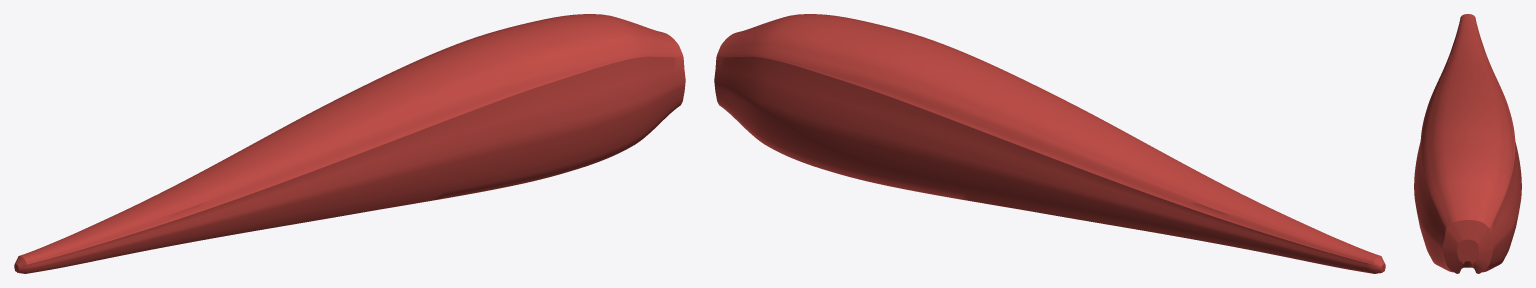
File: chopper_1_lod1.glb
3 renders of one model, left to right at view 1: azimuth 30°, elevation 25°; view 2: azimuth 150°, elevation 25°; view 3: azimuth 270°, elevation 25°, orthographic. The views are drawn at different scales.
Visible parts, largest first — view 1: chopper_1_lod1; view 2: chopper_1_lod1; view 3: chopper_1_lod1.
Boxes of the visible parts, x1=… form: chopper_1_lod1: x1=14, y1=14, x2=685, y2=273; chopper_1_lod1: x1=714, y1=14, x2=1385, y2=273; chopper_1_lod1: x1=1414, y1=14, x2=1521, y2=273.
Size of the model in its own units: 1.06 by 0.2055 by 0.1851.
